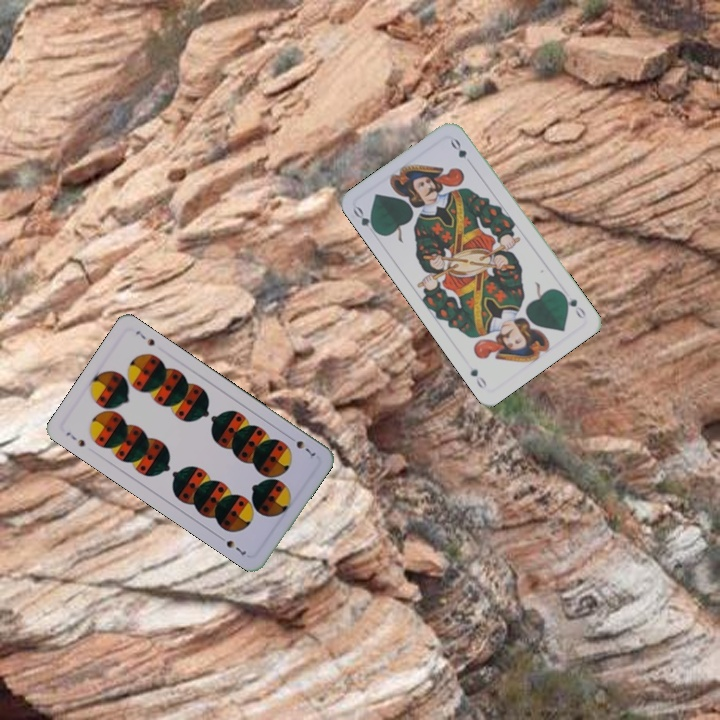GO: (349, 203, 381, 237), (558, 288, 589, 321)
S7: (284, 432, 319, 459), (62, 428, 88, 449)
